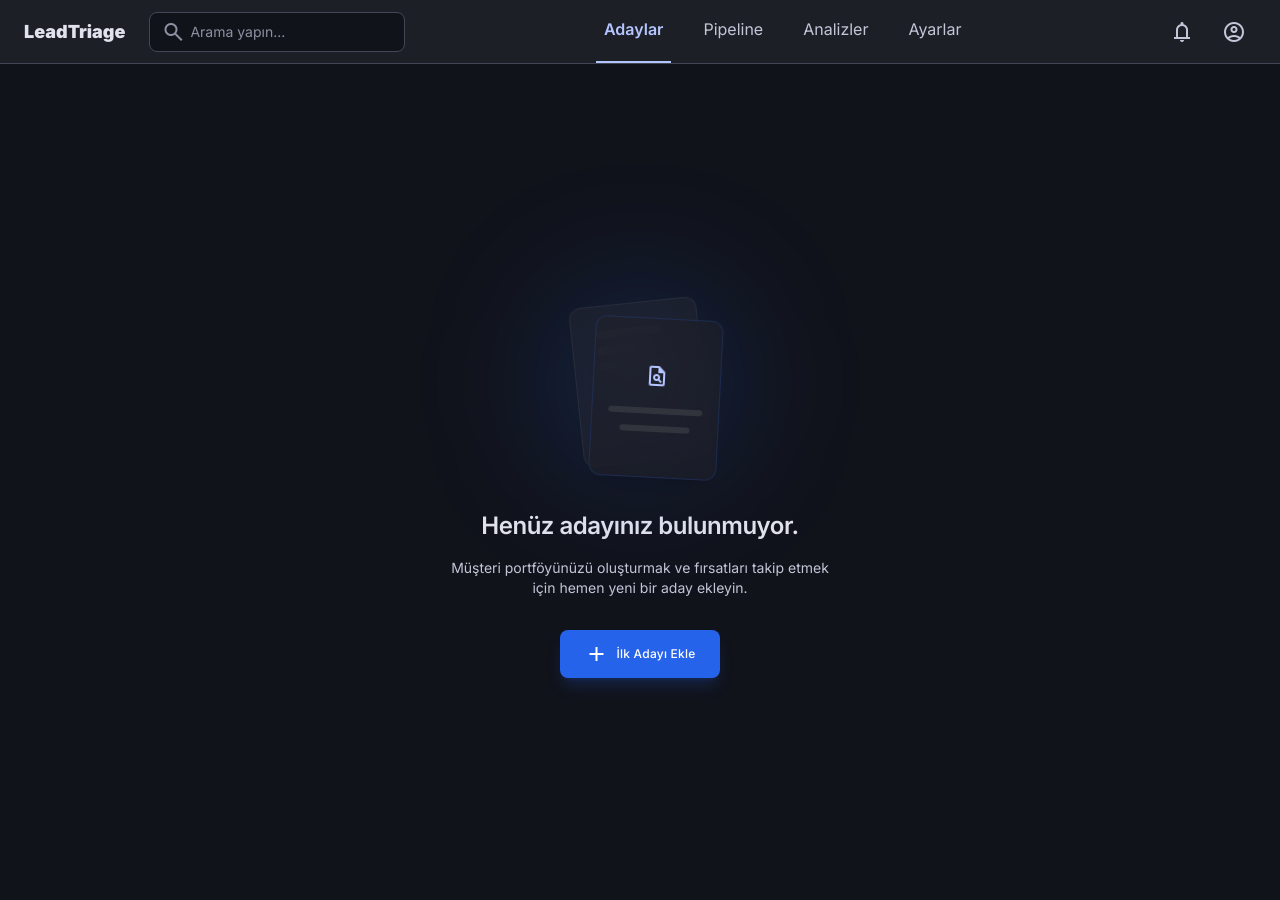
Test: App › opens profile panel
Click the button named "Profil": point(1234, 32) 1212,10 -> 1256,54
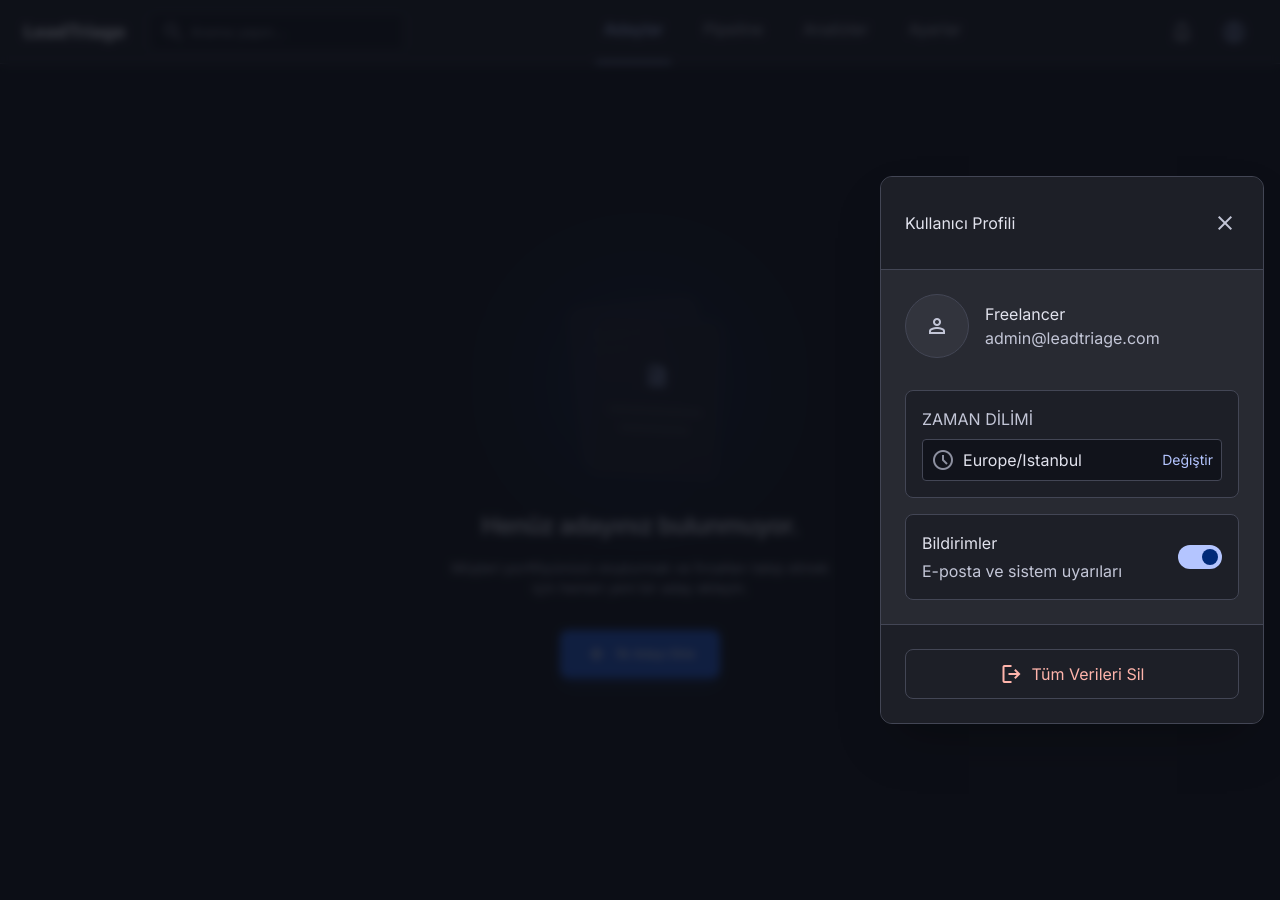
Now the heading "Kullanıcı Profili" is shown, box 905,211 -> 1015,235
